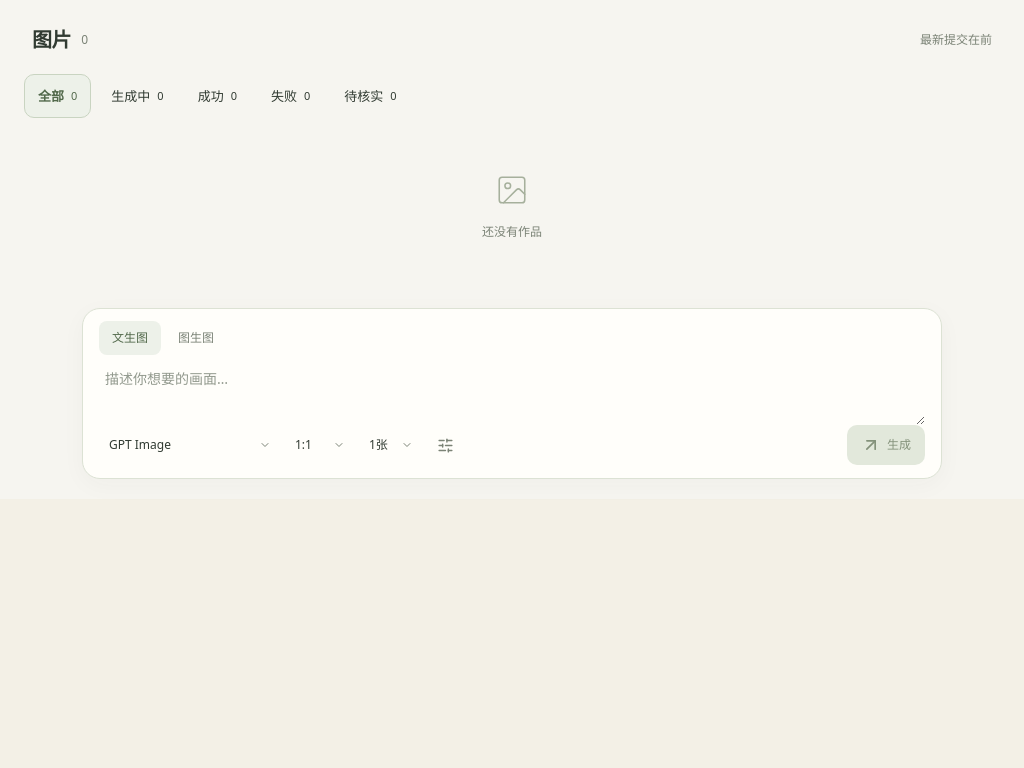
Scenario: reconciles a live batch to failed even without an SSE terminal event
Type "测试图片" into the text box at point(512, 390), box x1=99 y1=355 x2=925 y2=425
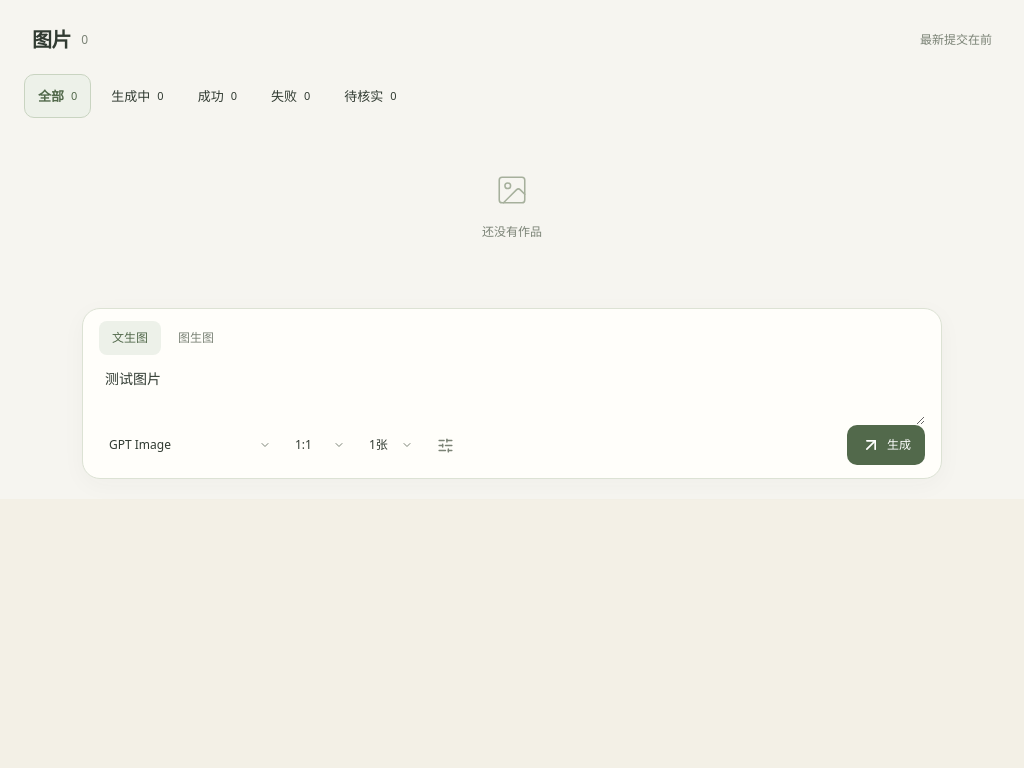
Click the button with aria-label "开始生成图片" at point(886, 445), box x1=847 y1=425 x2=925 y2=465
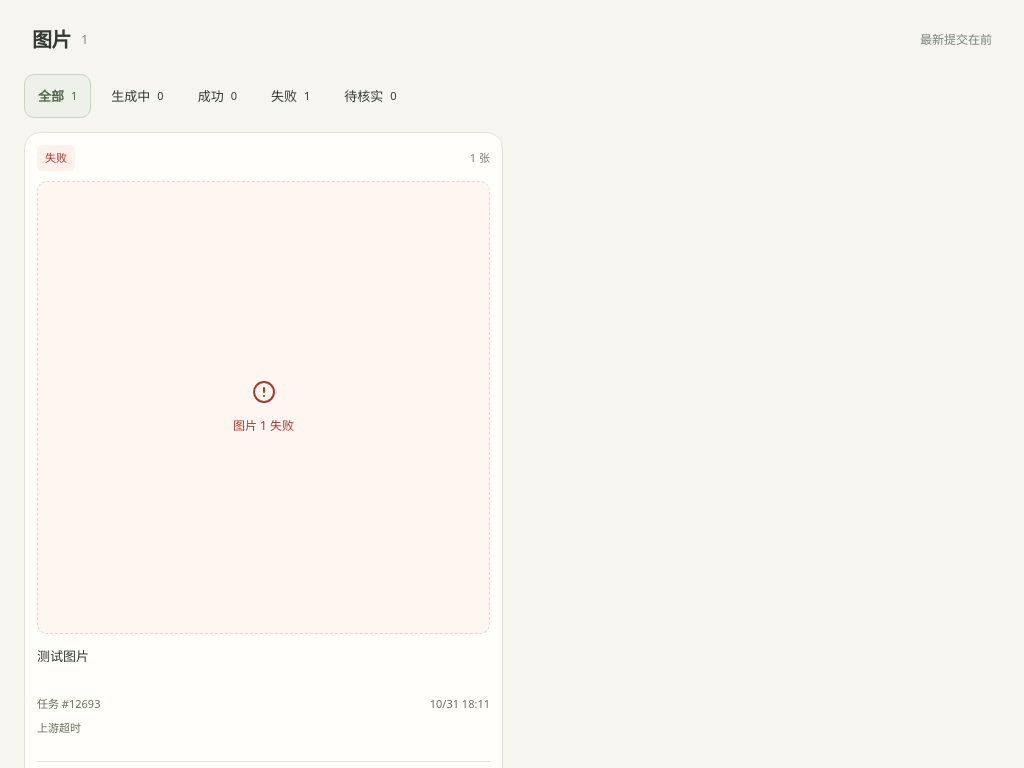
Check: the text with class "ig-task-status" reads "失败", box x1=45 y1=150 x2=67 y2=165
Check: the element with class "ig-task-meta" shows "任务 #12693", box x1=37 y1=696 x2=100 y2=711
Check: the text with class "ig-task-detail" reads "上游超时", box x1=37 y1=720 x2=81 y2=735
